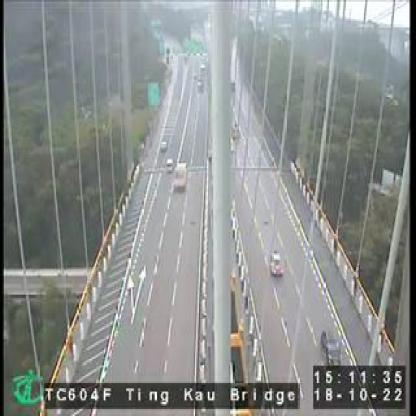Car: (320, 327, 344, 368), (271, 251, 285, 277), (161, 136, 170, 152), (166, 158, 174, 171)
Truck: (175, 160, 187, 192)
